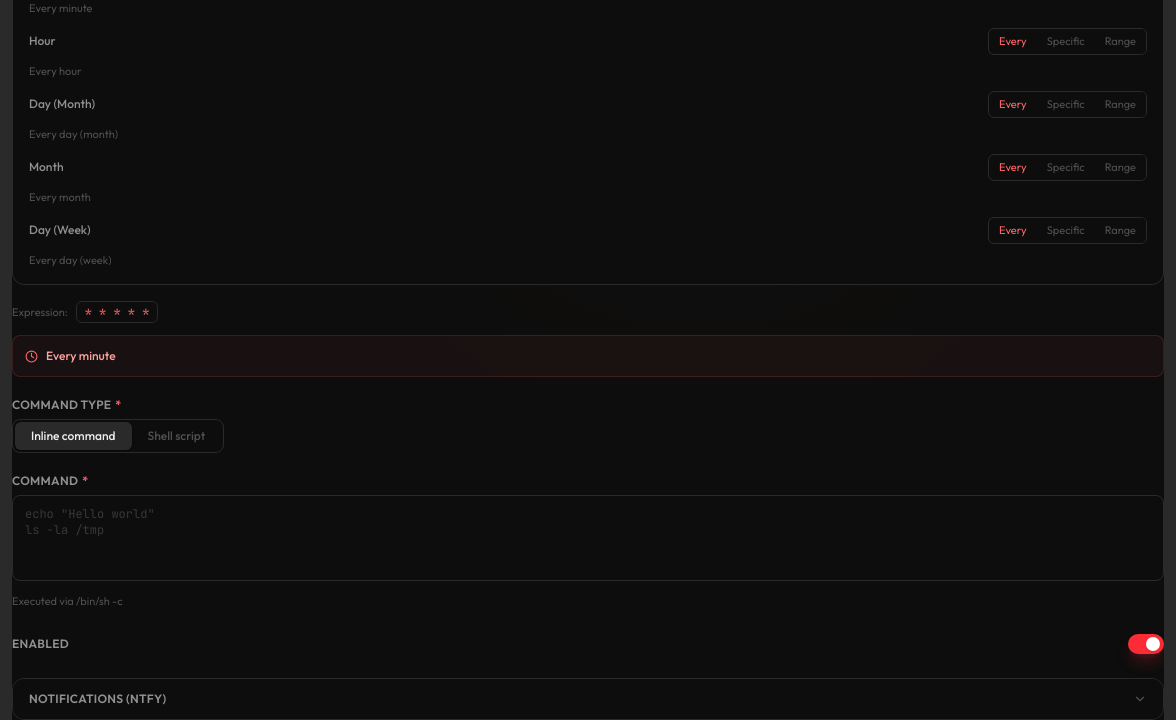
JobForm › shows ntfy fields when ntfy is enabled
This screenshot has width=1176, height=720.
(page scrolled)
Open ntfy section
Click the button "Notifications (ntfy)": (98, 698) [13,678,1163,718]
(page scrolled)
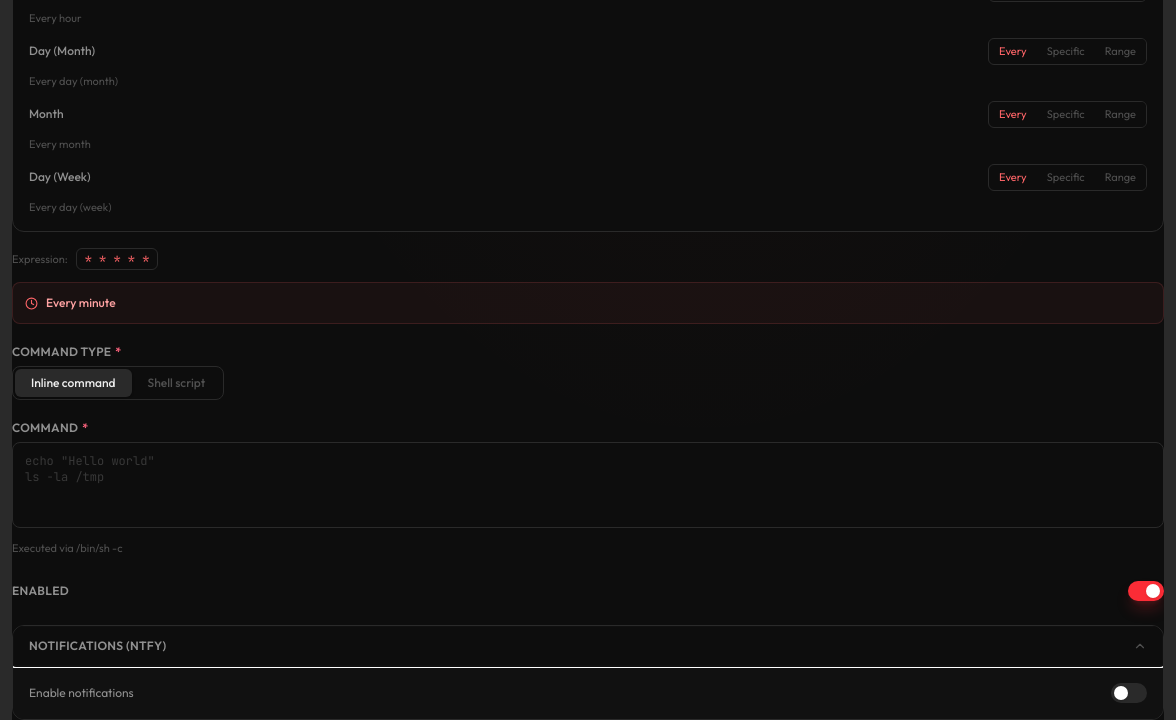
Enable ntfy
Click the switch in the row of "Enable notifications": (1129, 692) [1111,682,1147,702]
(page scrolled)
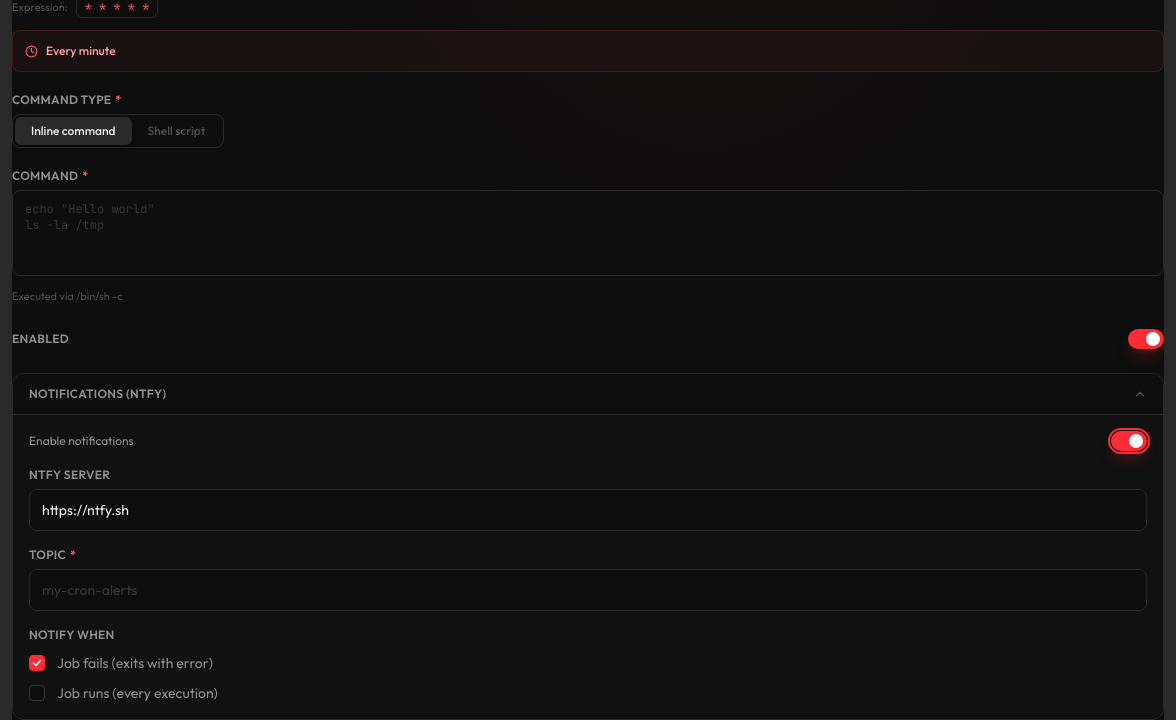
Result: the field with placeholder "my-cron-alerts" is shown at [29,568,1147,610]
Result: the field with placeholder "https://ntfy.sh" is shown at [29,488,1147,530]
